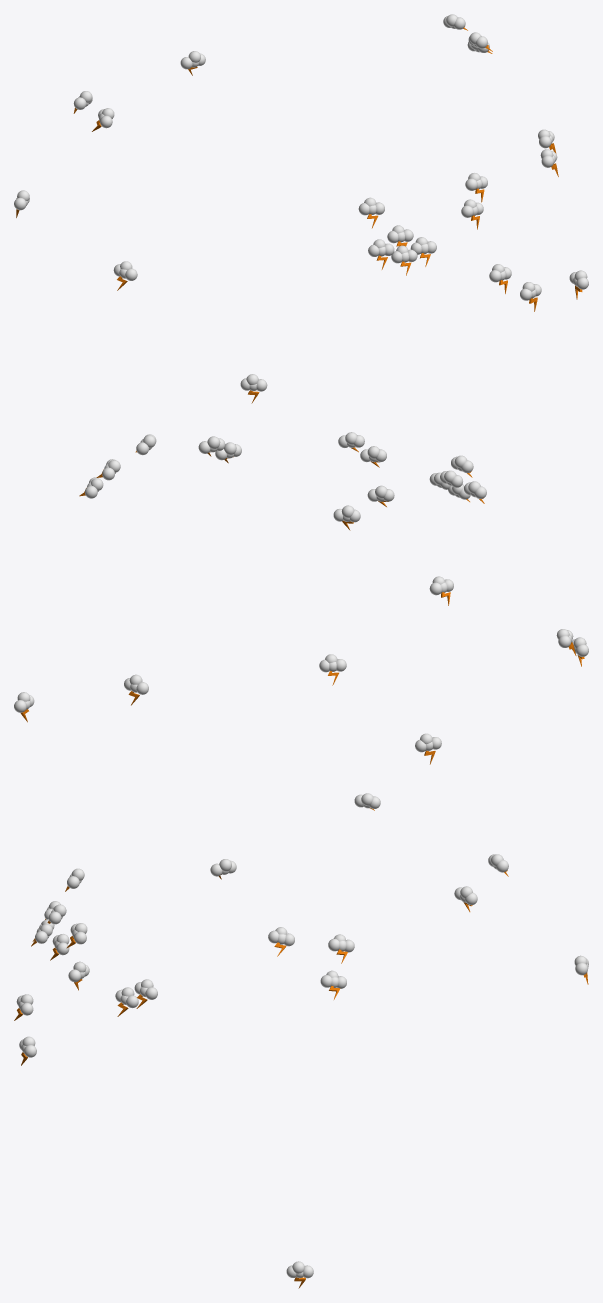
The model's file is storms_post.glb.
The picture shows the model from 3 angles, top to bottom: view 1: azimuth 30°, elevation 25°; view 2: azimuth 150°, elevation 25°; view 3: azimuth 270°, elevation 25°; orthographic projection. The views are drawn at different scales.
Parts seen in each view (by area): view 1: no part large enough to name; view 2: Sphere.005, Sphere.008; view 3: no part large enough to name.
Boxes of the visible parts, box(x1,y1,x2,y2) form: Sphere.005: box(415, 733, 441, 764); Sphere.008: box(319, 654, 346, 685).
Size of the model in its own units: 193 by 109 by 186.
